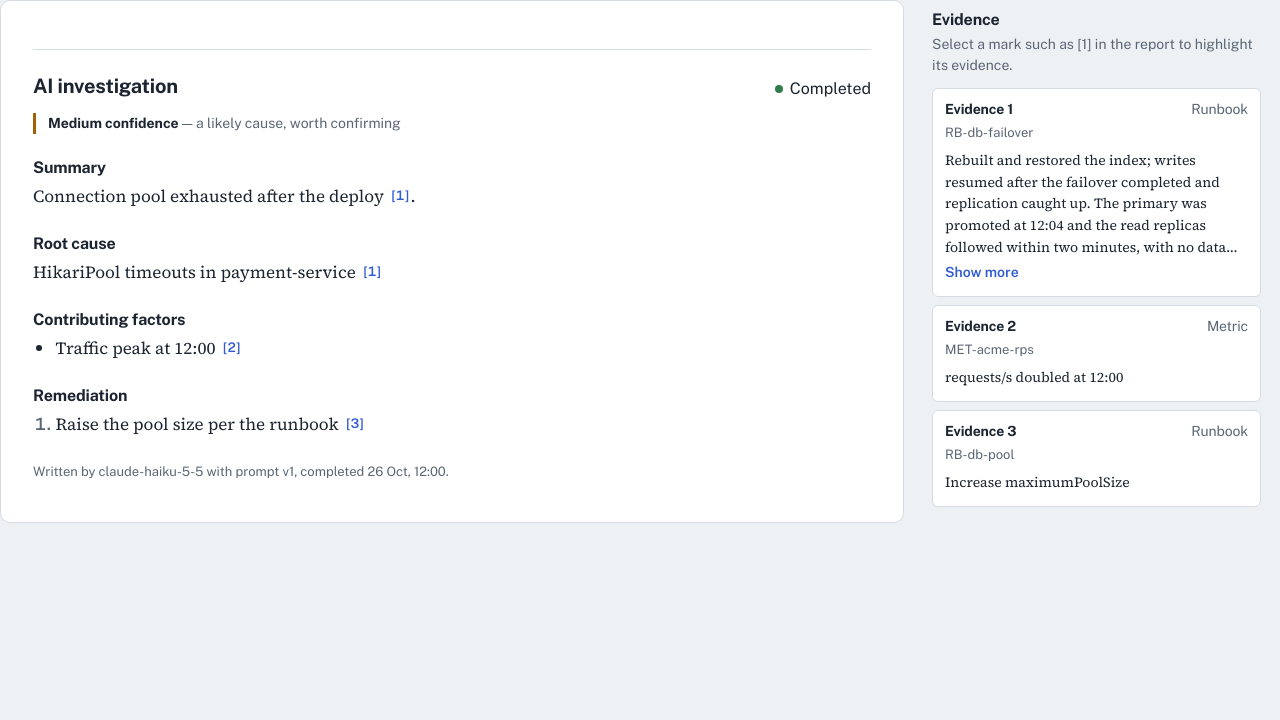
evidence snippet › previews at a word boundary with an ellipsis and expands with "Show more"
expect the heading "Summary" is shown: met, box [33,158,106,177]
expect the text "…" is shown: met, box [945,150,1248,258]
Click the button "Show more" at {"x": 982, "y": 273}, box [945,262,1019,283]
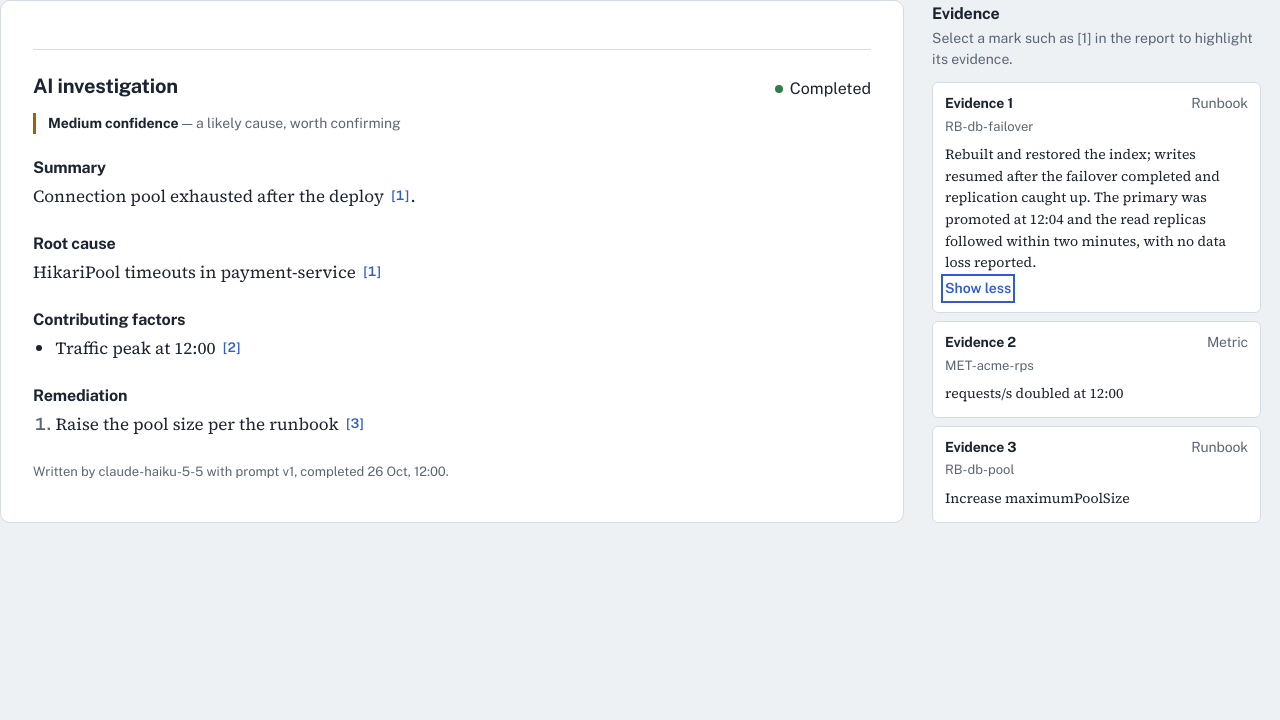
expect the button "Show less" is expanded: met, box [945,278,1011,299]
